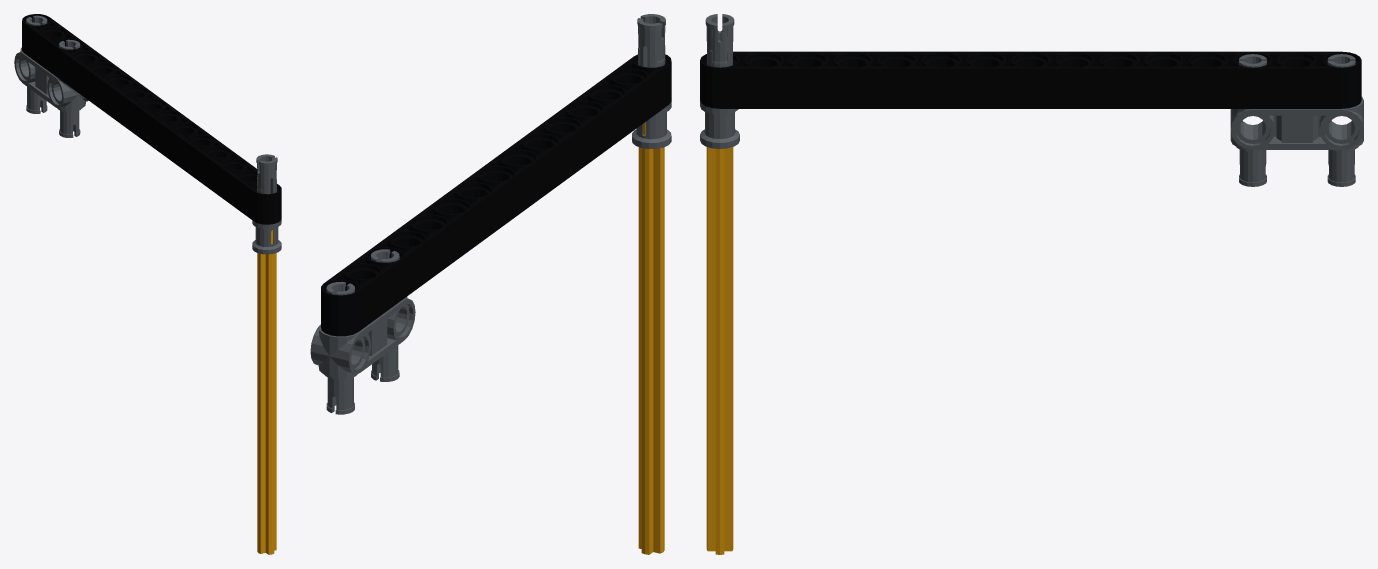
The model's file is rotor_d.obj.
3 renders of one model, left to right at view 1: azimuth 30°, elevation 25°; view 2: azimuth 150°, elevation 25°; view 3: azimuth 270°, elevation 25°, orthographic. The views are drawn at different scales.
Size of the model in its own units: 20 by 263 by 299.
